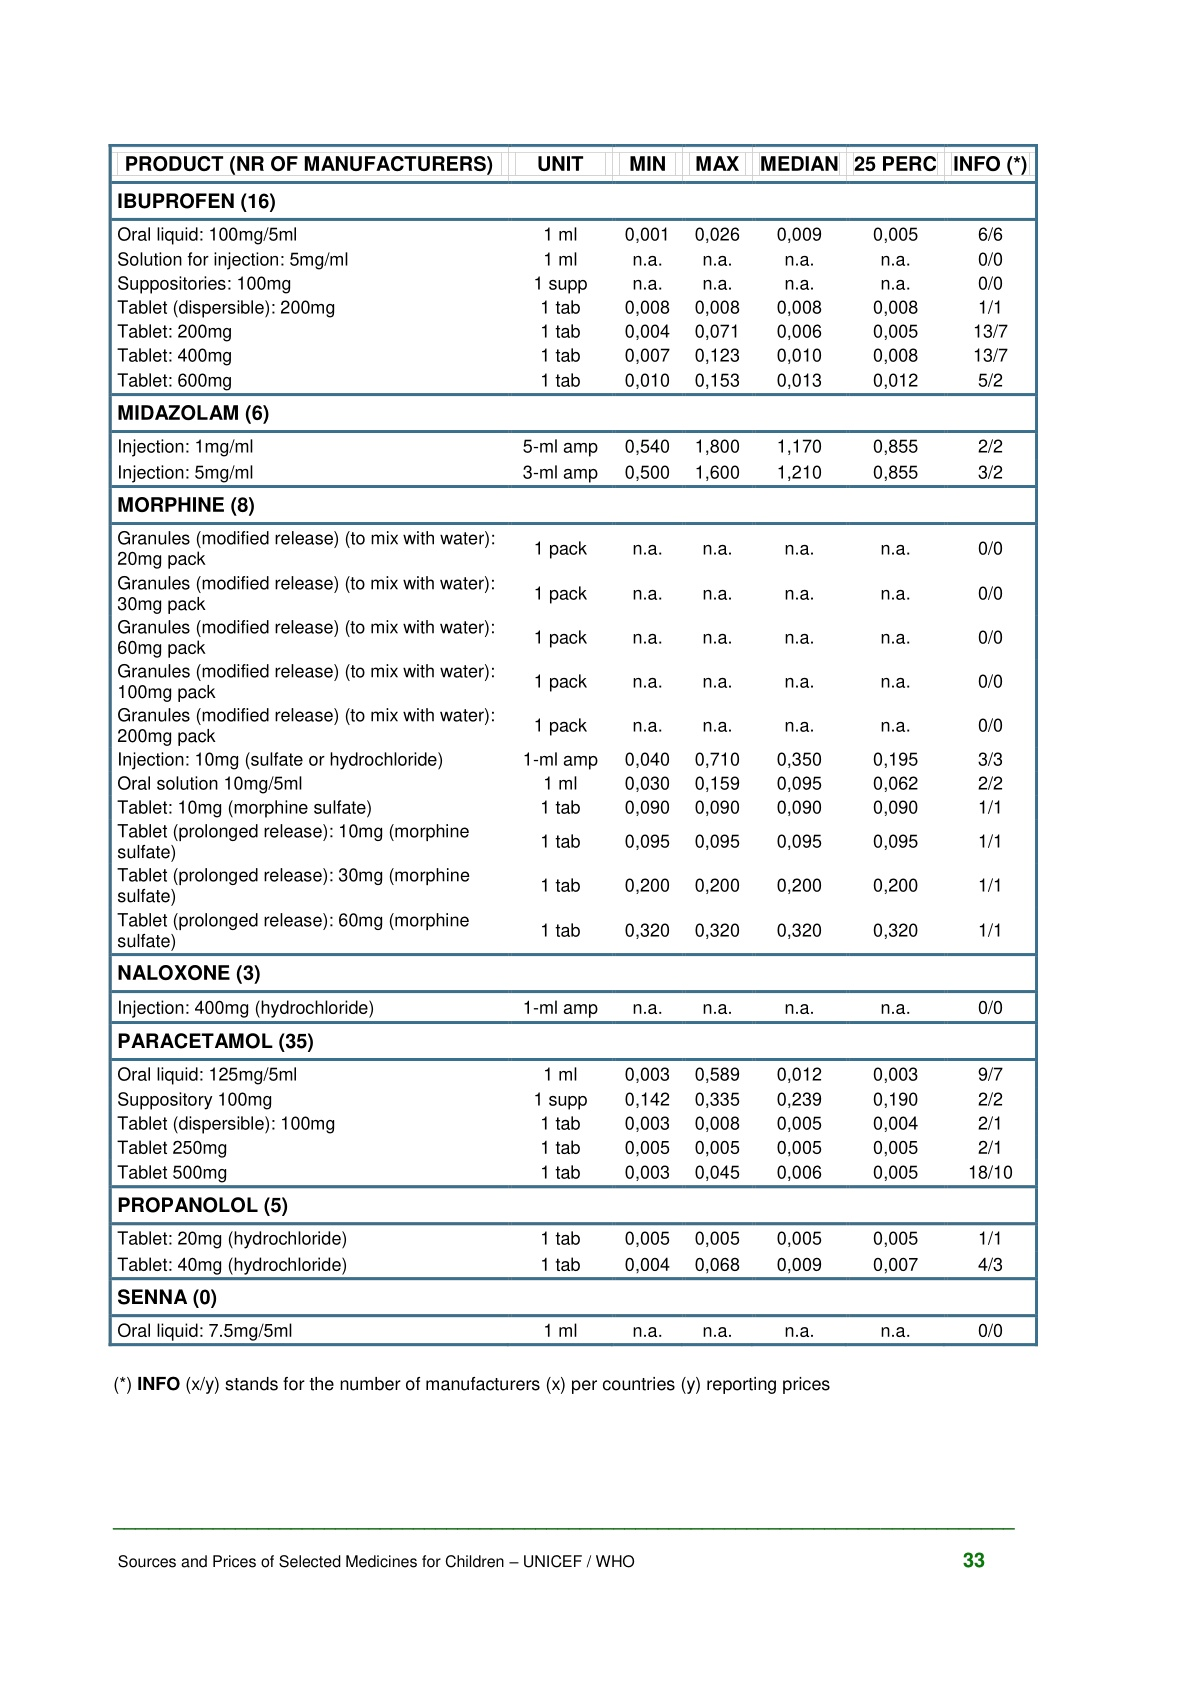partial_lined_merged_cells: (108, 143, 1039, 1346)
